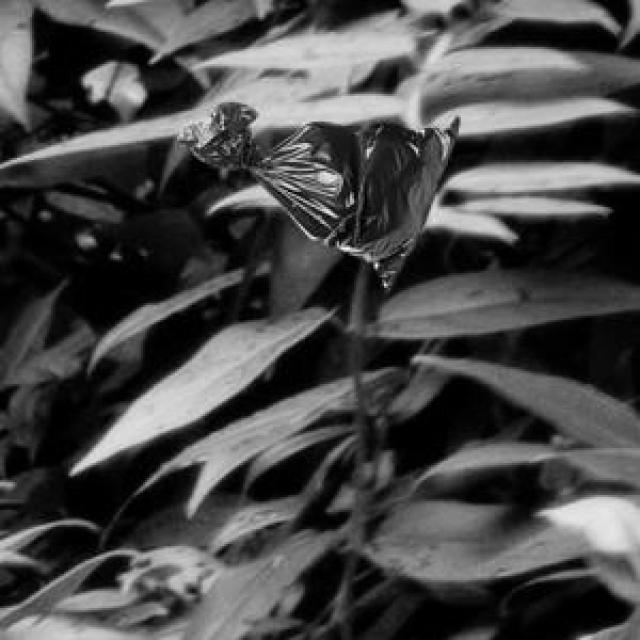miscellaneous trash: (173, 98, 454, 288)
